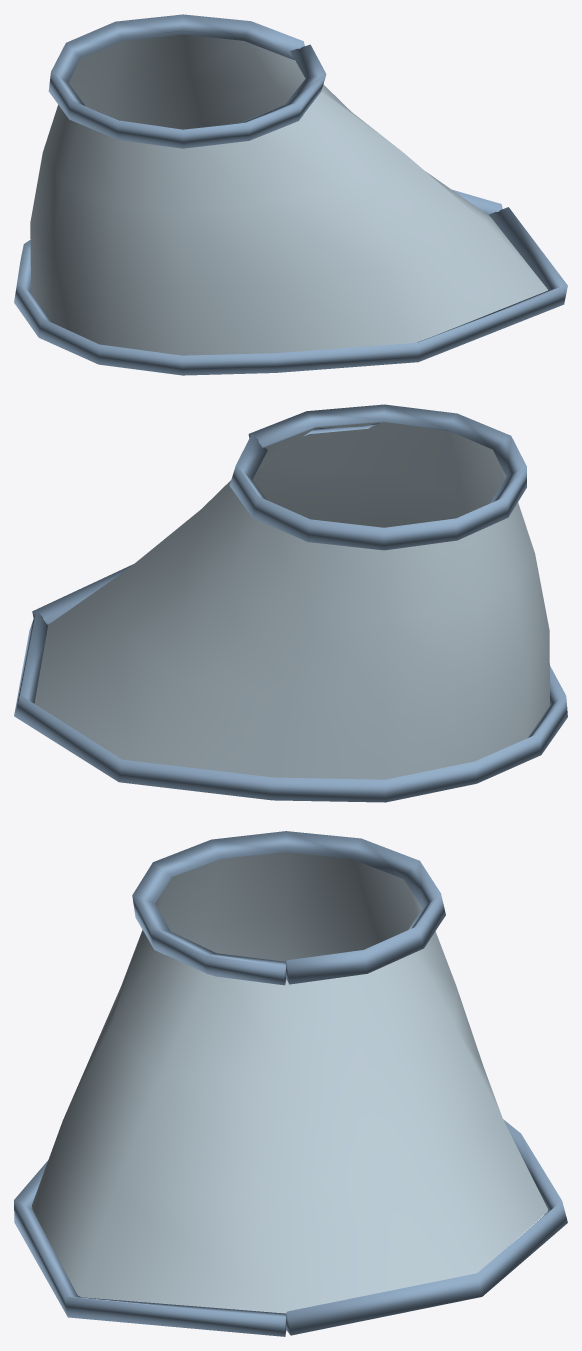
File: platinum_armor_pauldron.L.glb
3 views of the same model, one above another, from view 1: azimuth 30°, elevation 25°; view 2: azimuth 150°, elevation 25°; view 3: azimuth 270°, elevation 25° (orthographic). The views are drawn at different scales.
Parts seen in each view (by area): view 1: platinum_armor_pauldron.L; view 2: platinum_armor_pauldron.L; view 3: platinum_armor_pauldron.L.
Boxes of the visible parts, box(x1,y1,x2,y2) form: platinum_armor_pauldron.L: box(14, 14, 567, 375); platinum_armor_pauldron.L: box(14, 404, 567, 802); platinum_armor_pauldron.L: box(14, 831, 567, 1336).
Bounding box in the file's own units: 0.3461 × 0.1645 × 0.3104.
